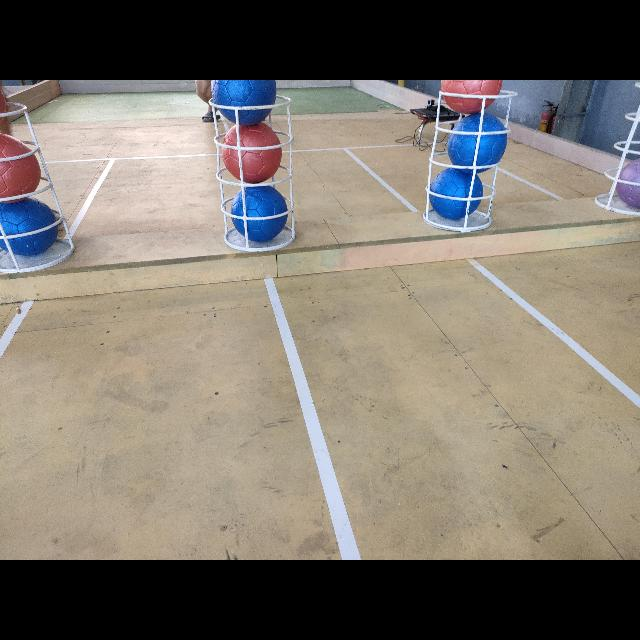B: (448, 116, 507, 172), (0, 200, 58, 256), (232, 185, 288, 242), (212, 80, 276, 126), (429, 168, 483, 220)
R: (222, 124, 282, 184), (1, 133, 42, 204), (441, 80, 503, 114)
